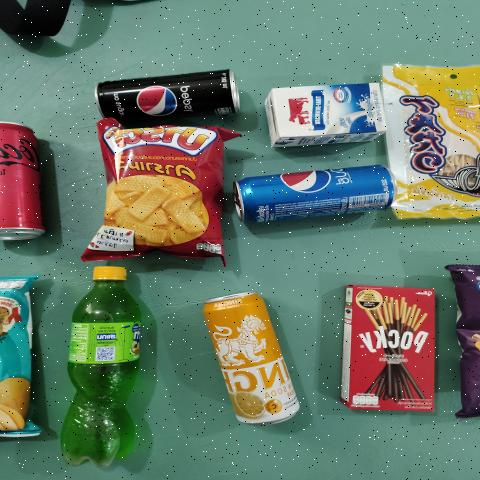coke_red: (0, 126, 34, 239)
fanta_green: (62, 267, 128, 469)
party_red: (98, 128, 223, 256)
pepsi_black: (92, 66, 238, 122)
pepsi_blue: (235, 164, 386, 228)
pokki: (335, 284, 439, 414)
singha_yellow: (195, 286, 301, 433)
taro_yellow: (396, 68, 480, 215)
thai_denmark: (268, 84, 378, 142)
